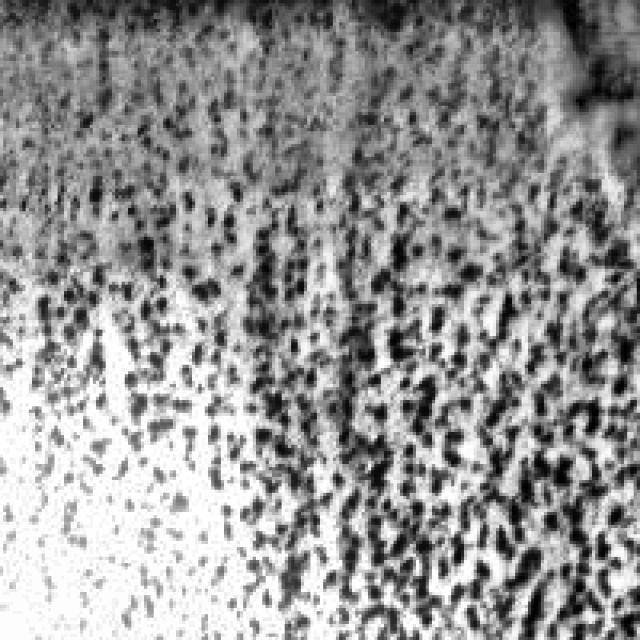Rolled_in_Scale: (41, 25, 598, 630)
Scratches: (553, 0, 636, 150)
